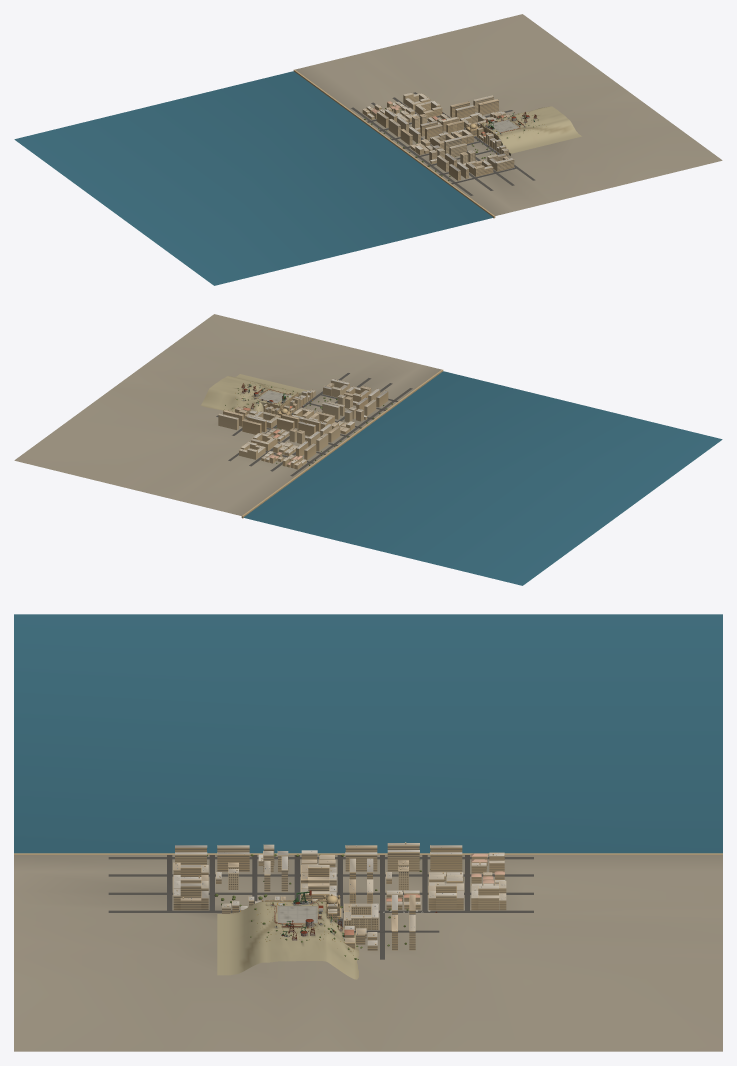
3 renders of one model, top to bottom at view 1: azimuth 30°, elevation 25°; view 2: azimuth 150°, elevation 25°; view 3: azimuth 270°, elevation 25°, orthographic. The views are drawn at different scales.
Parts seen in each view (by area): view 1: platform_base; view 2: platform_base; view 3: platform_base.
Part boxes in pixels (x1,y1,x2,y2): platform_base: (14, 14, 722, 285); platform_base: (14, 314, 722, 585); platform_base: (14, 614, 722, 1051).
Size of the model in its own units: 220 by 7.68 by 150.
